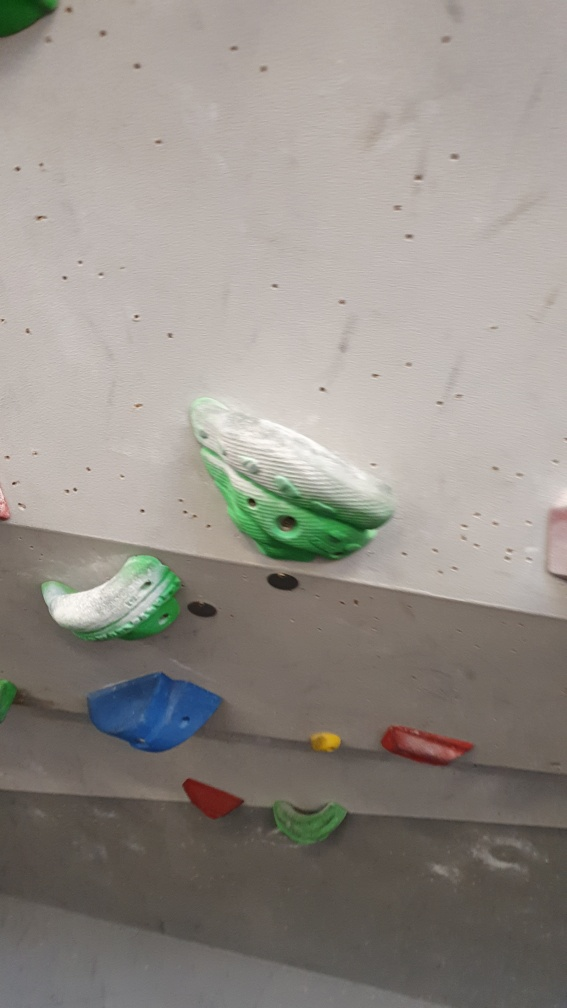Crimp: (373, 722, 477, 769)
Hand Start: (181, 582, 223, 625), (260, 564, 304, 597)
Jug: (186, 386, 397, 570), (36, 547, 185, 649), (268, 791, 349, 849)
Pinch: (80, 667, 226, 757)
